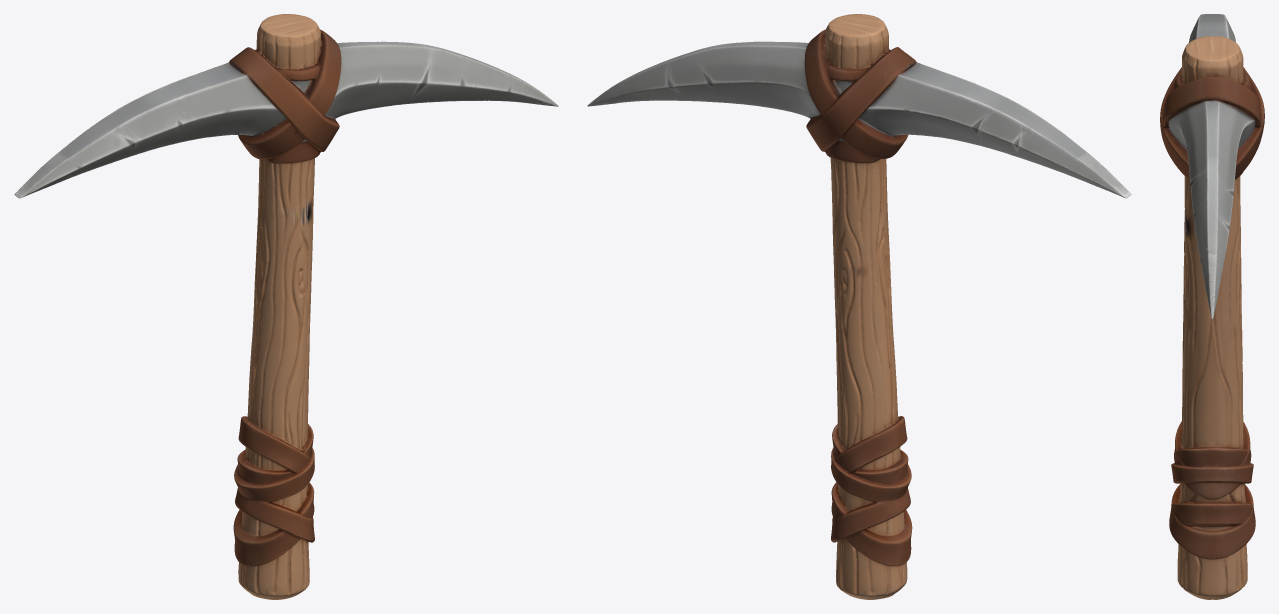
Rendered from Meshy_AI_Pickaxe_Essence_0209081726_texture.fbx.
3 renders of one model, left to right at view 1: azimuth 30°, elevation 25°; view 2: azimuth 150°, elevation 25°; view 3: azimuth 270°, elevation 25°, orthographic. The views are drawn at different scales.
Visible parts, largest first — view 1: Mesh_0; view 2: Mesh_0; view 3: Mesh_0.
Part boxes in pixels (x1=…): Mesh_0: x1=14, y1=14, x2=558, y2=599; Mesh_0: x1=587, y1=14, x2=1131, y2=599; Mesh_0: x1=1160, y1=14, x2=1264, y2=599.
Bounding box in the file's own units: 200 × 200 × 34.37.
1 material, 1 textured.
